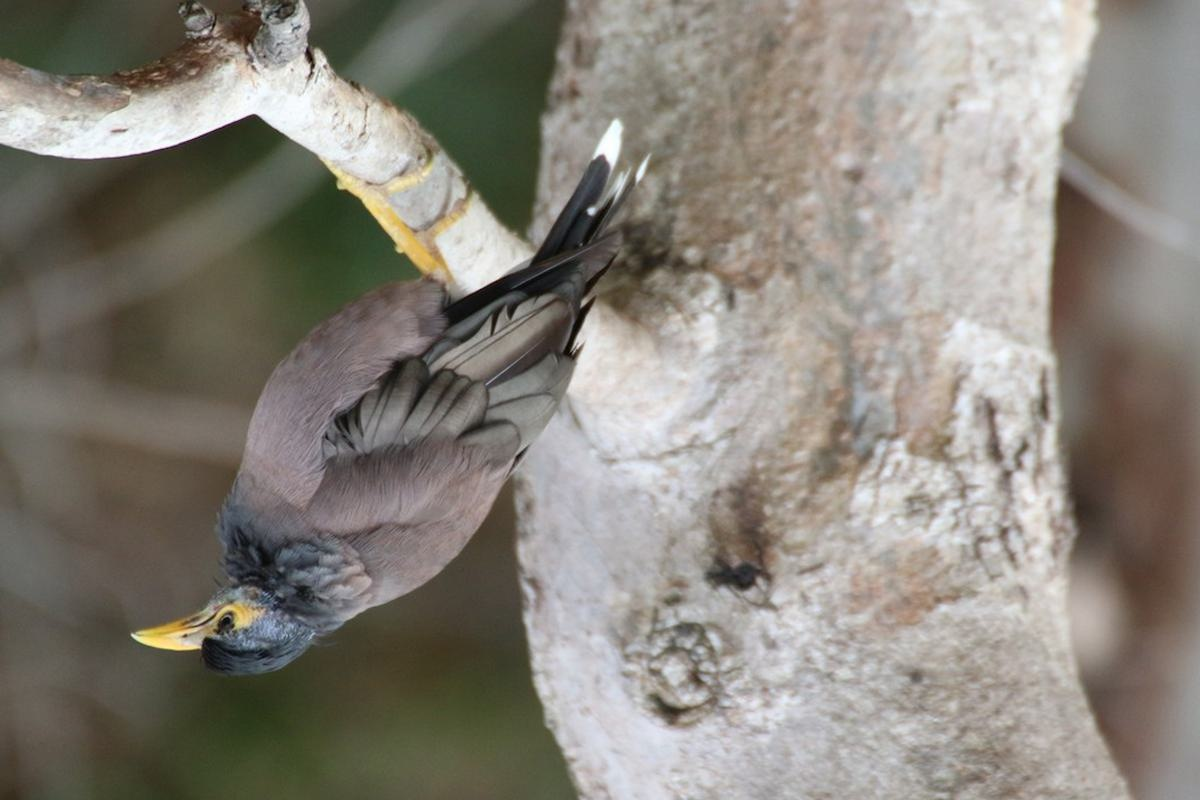myna: (137, 221, 629, 708)
